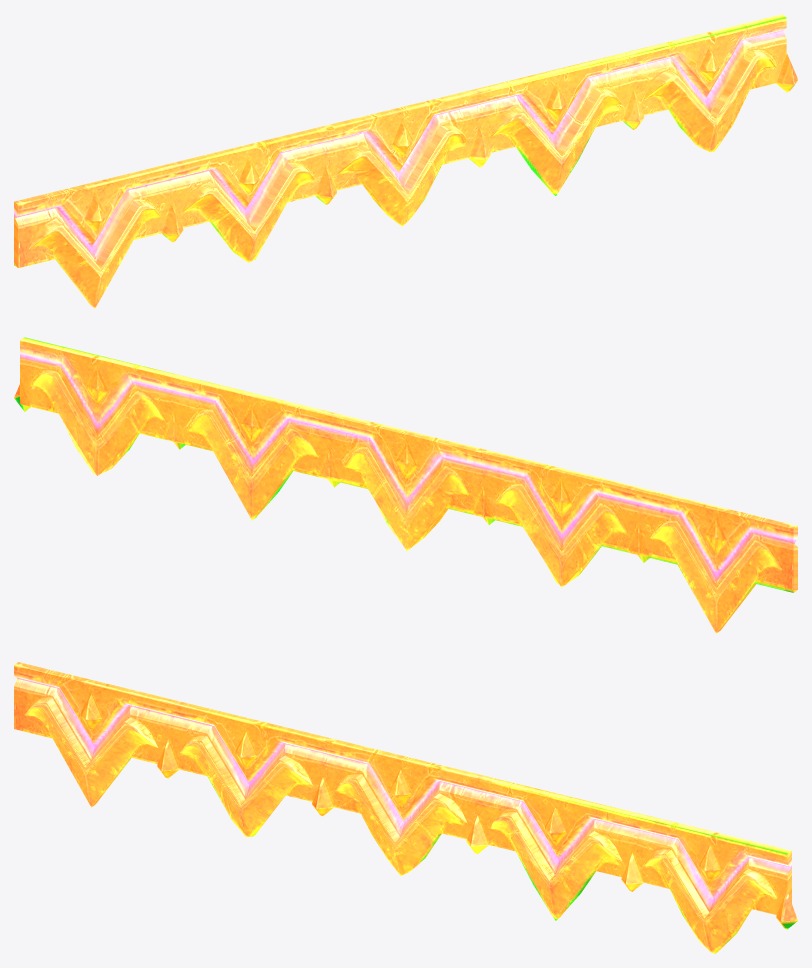
File: FortressDecoTrim.fbx
The picture shows the model from 3 angles, top to bottom: view 1: azimuth 30°, elevation 25°; view 2: azimuth 150°, elevation 25°; view 3: azimuth 330°, elevation 25°; orthographic projection.
Visible parts, largest first — view 1: Dn_HL_Fortress_DecoTrimC.mo; view 2: Dn_HL_Fortress_DecoTrimC.mo; view 3: Dn_HL_Fortress_DecoTrimC.mo.
Boxes of the visible parts, left/top/right/bottom form: Dn_HL_Fortress_DecoTrimC.mo: left=14, top=14, right=797, bottom=308; Dn_HL_Fortress_DecoTrimC.mo: left=14, top=337, right=797, bottom=633; Dn_HL_Fortress_DecoTrimC.mo: left=14, top=662, right=797, bottom=953.
Size of the model in its own units: 319 by 48.06 by 8.31.
